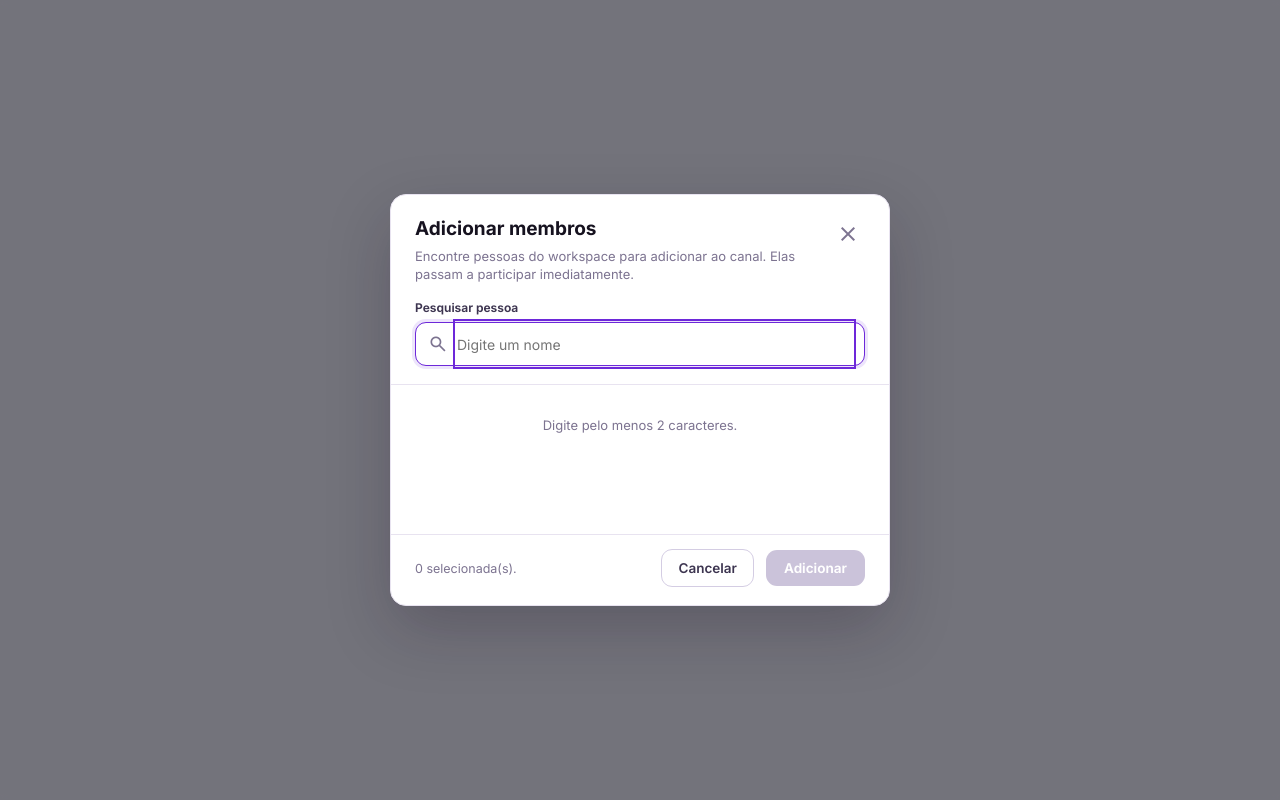
it: AddMembersDialog — estados de busca › reports a search failure and can retry
Type "an" into the search field labelled "Pesquisar pessoa".
click(654, 344); type("an")  # box left=457, top=323, right=852, bottom=365
Wait 200 ms
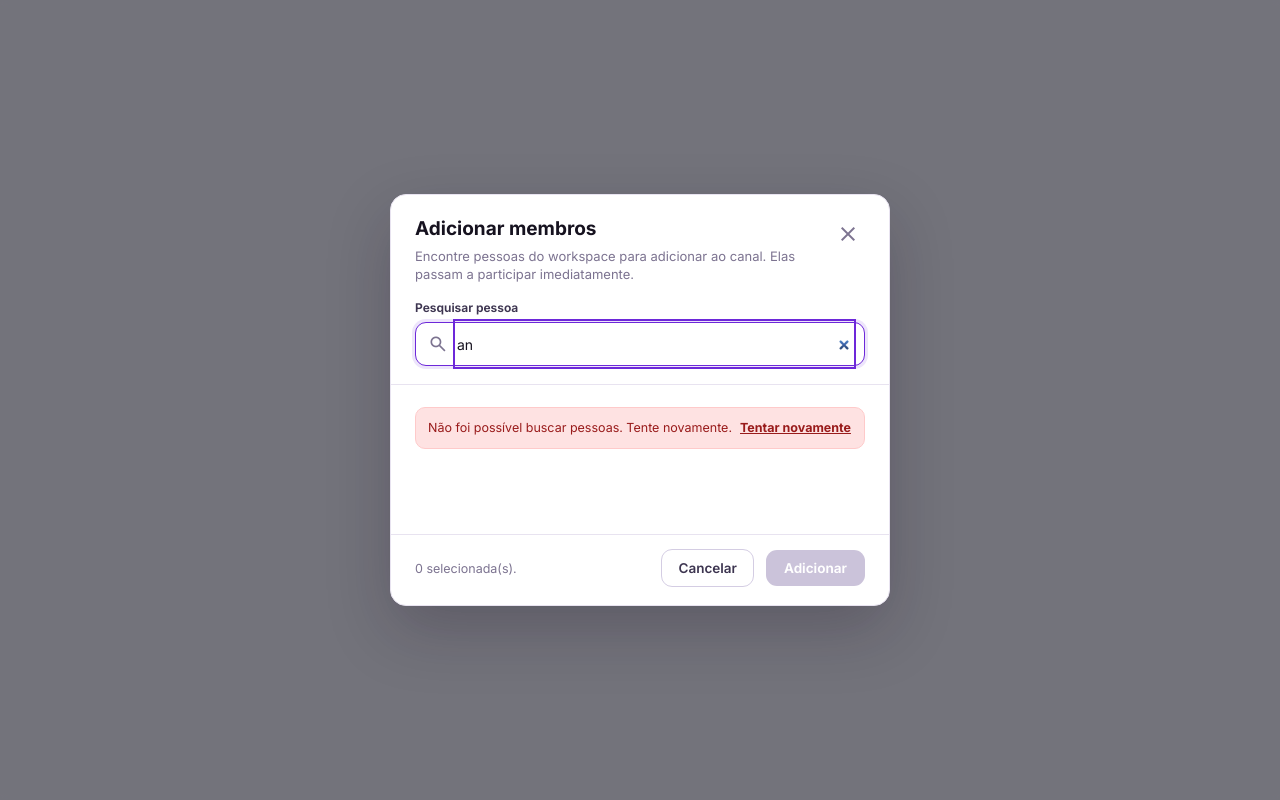
Expected: the message shows "Não foi possível buscar pessoas.", left=428, top=420, right=732, bottom=435
Click the button "Tentar novamente".
click(795, 428)  # box left=740, top=419, right=851, bottom=437
Wait 200 ms
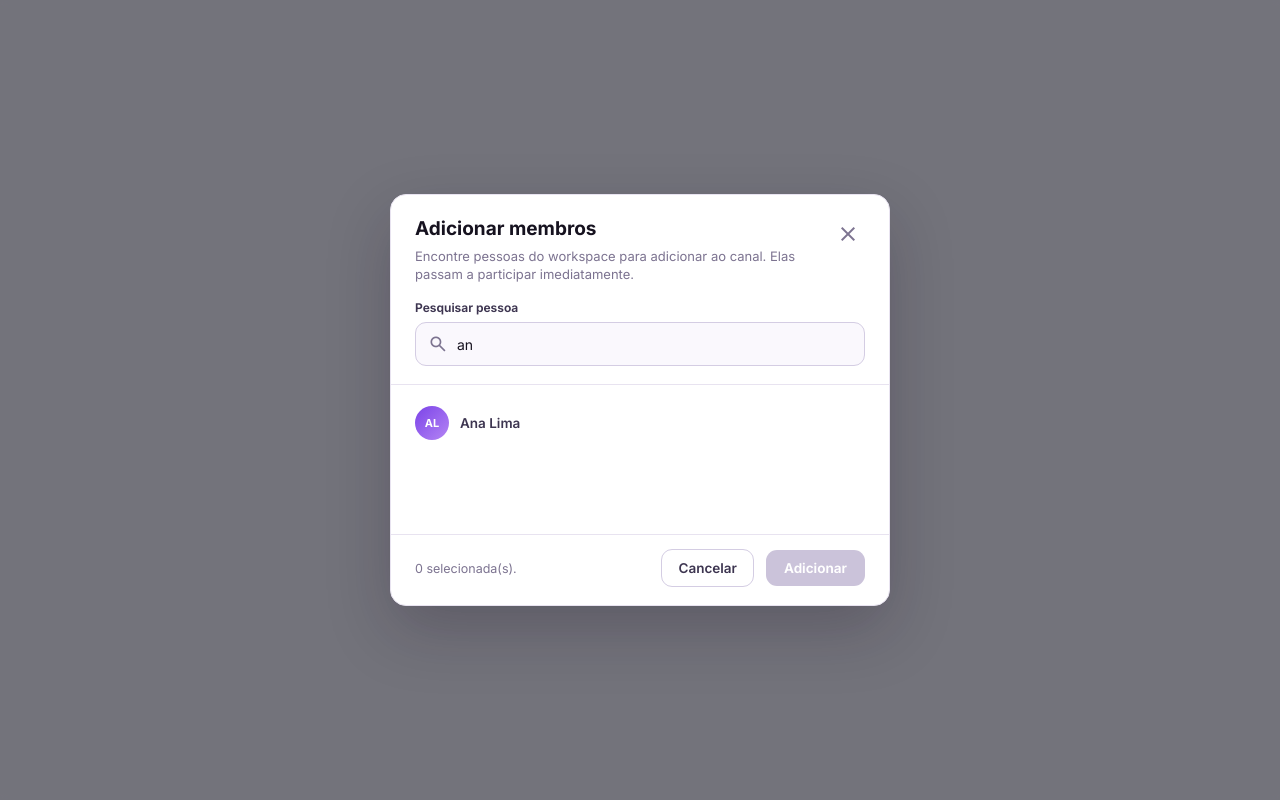
Expected: the button "AL Ana Lima" is shown, left=405, top=397, right=875, bottom=449
